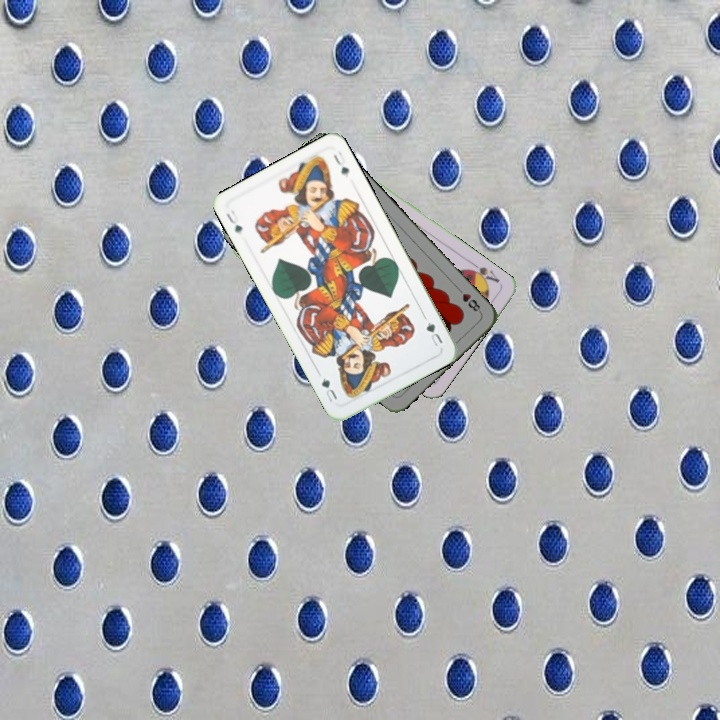GU: (422, 318, 445, 350), (222, 206, 245, 236)
H8: (452, 283, 484, 315)
SA: (464, 258, 502, 287)
